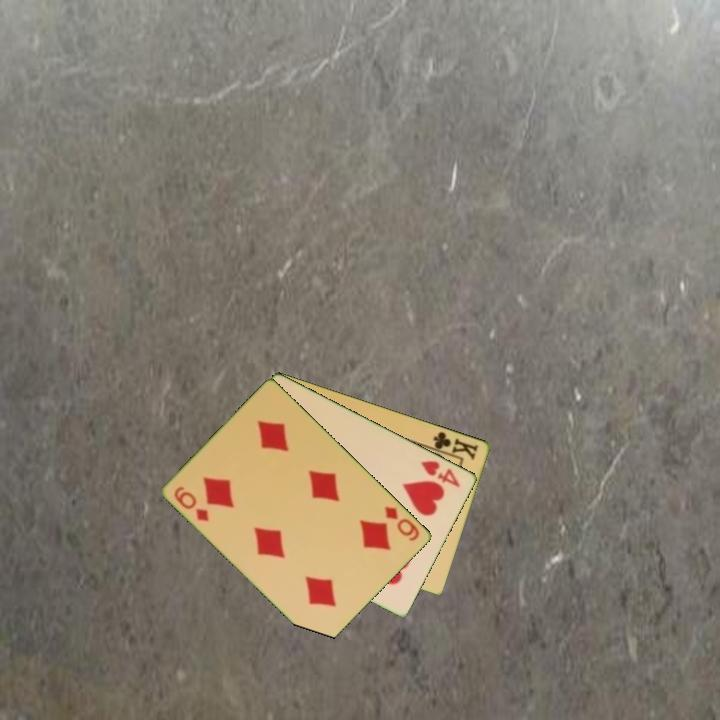4h: (418, 457, 463, 490)
6d: (381, 502, 423, 544), (171, 482, 212, 525)
Kc: (426, 428, 481, 463)
